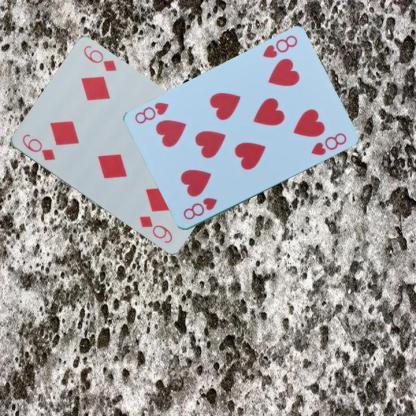6d: (19, 132, 57, 162)
8h: (259, 33, 299, 60), (180, 195, 218, 222)
